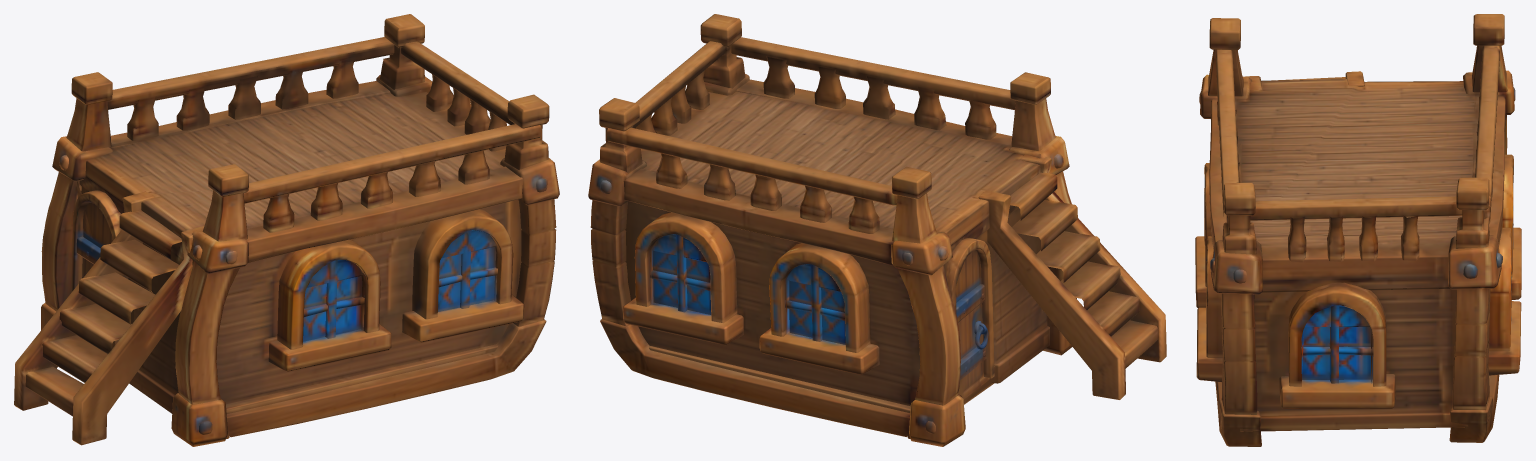
Rendered from cabin_assembled_preview.glb.
3 views of the same model, side by side, from view 1: azimuth 30°, elevation 25°; view 2: azimuth 150°, elevation 25°; view 3: azimuth 270°, elevation 25° (orthographic). The views are drawn at different scales.
Visible parts, largest first — view 1: cabin; view 2: cabin; view 3: cabin.
Boxes of the visible parts, x1,y1,x2,y2 form: cabin: [14, 14, 559, 446]; cabin: [588, 14, 1166, 446]; cabin: [1195, 14, 1521, 446].
Bounding box in the file's own units: 6.42 × 3.4 × 3.6.
Materials: 1 (1 with a texture image).
